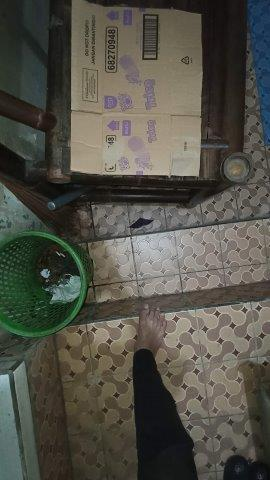kardus: (72, 2, 201, 175)
